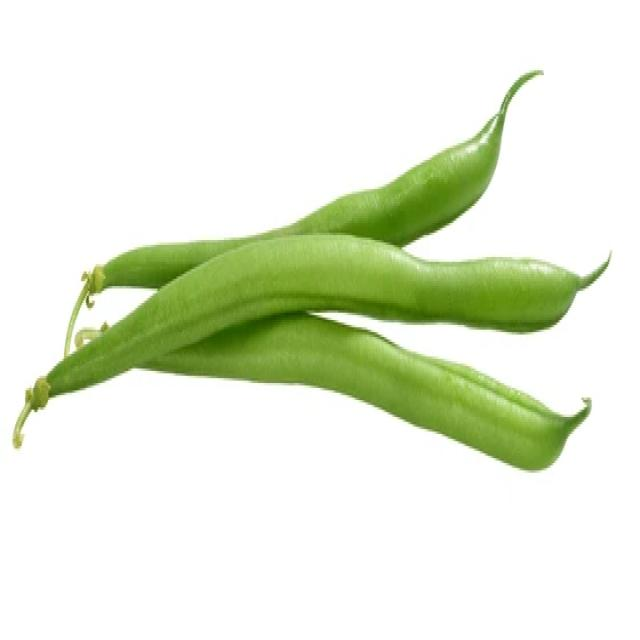organic: (13, 64, 593, 485)
